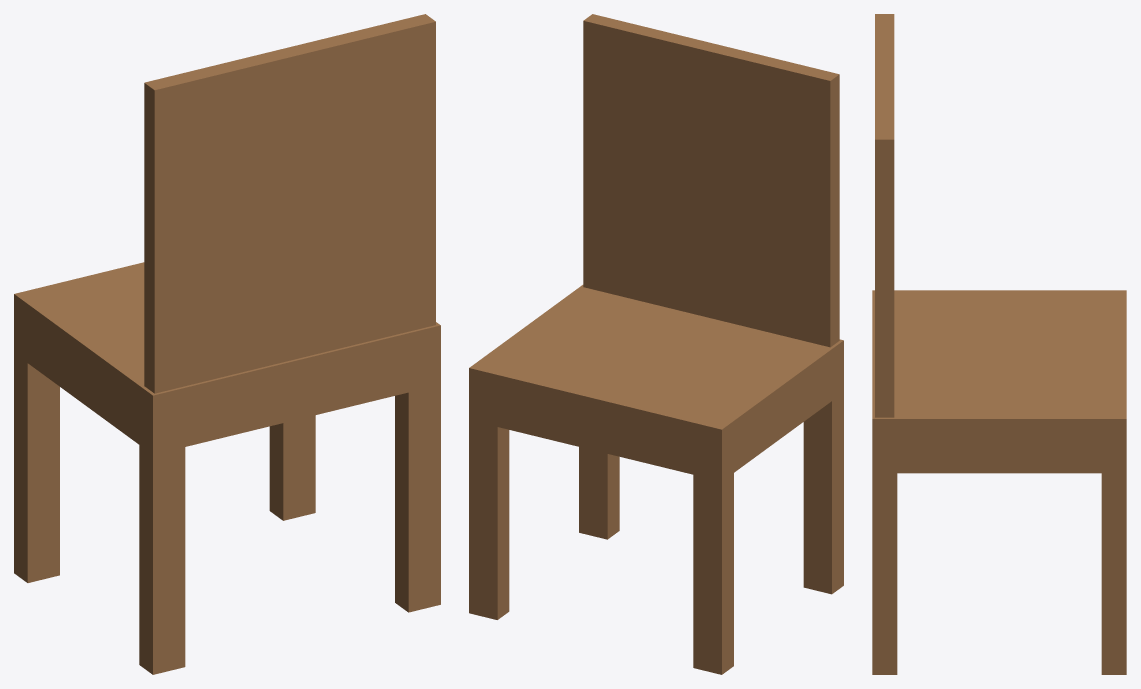
Rendered from chair.fbx.
3 views of the same model, side by side, from view 1: azimuth 30°, elevation 25°; view 2: azimuth 150°, elevation 25°; view 3: azimuth 270°, elevation 25° (orthographic). The views are drawn at different scales.
Parts seen in each view (by area): view 1: chair3; view 2: chair3; view 3: chair3.
Boxes of the visible parts, x1,y1,x2,y2 form: chair3: (14,14,440,674); chair3: (469,14,843,674); chair3: (872,14,1126,674).
Size of the model in its own units: 20.29 by 39.25 by 16.96.
